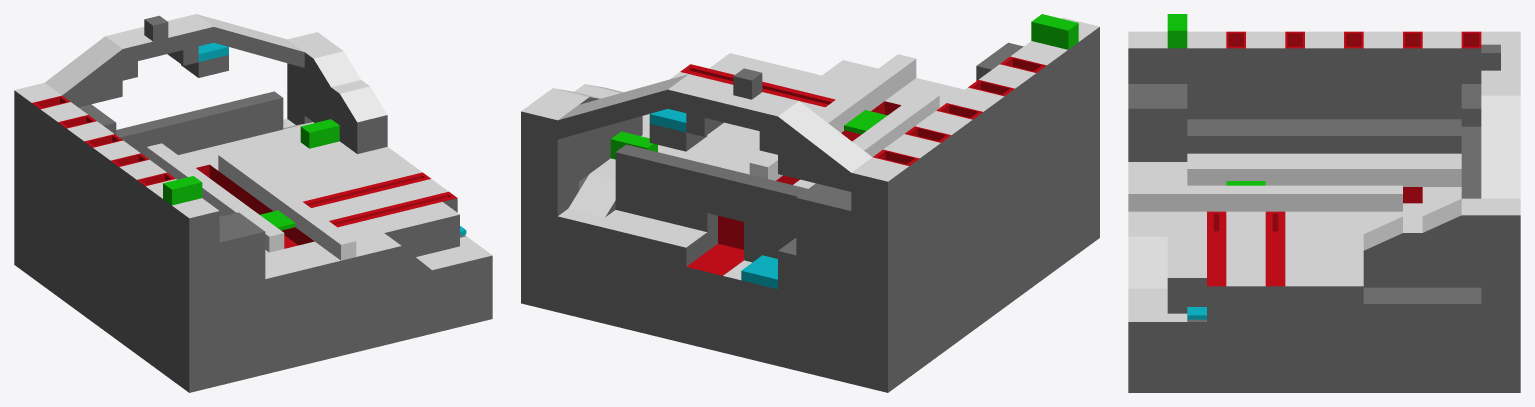
File: Nivel1_v2.fbx
3 renders of one model, left to right at view 1: azimuth 30°, elevation 25°; view 2: azimuth 150°, elevation 25°; view 3: azimuth 270°, elevation 25°, orthographic. The views are drawn at different scales.
Visible parts, largest first — view 1: Base, Pared final, Modulo movil 1, Pivotes electricos 2, Inicio, Pared2, Pivotes electricos 1, Modulo movil 2, Pared1, Puerta 2, Puerta 1, Boton 3 (+1 smaller); view 2: Base, Pared final, Pared2, Horno, Pivotes electricos 2, Pared1, Modulo movil 2, Modulo movil 1, Pivotes electricos 1, Puerta 2, Boton 2, Boton 3 (+3 smaller); view 3: Base, Pared final, Cinta transportadora, Modulo movil 1, Pivotes electricos 2, Pivotes electricos 1, Inicio, Modulo movil 2, Horno, Pared1, Puerta 2, Pared2.
Part boxes in pixels (x1,y1,x2,y2): Base: [14, 14, 492, 392]; Pared final: [14, 29, 219, 297]; Modulo movil 1: [304, 45, 387, 153]; Pivotes electricos 2: [218, 151, 356, 260]; Inicio: [204, 212, 265, 293]; Pared2: [184, 91, 283, 151]; Pivotes electricos 1: [146, 143, 284, 252]; Modulo movil 2: [136, 15, 228, 77]; Pared1: [116, 113, 192, 156]; Puerta 2: [163, 176, 202, 205]; Puerta 1: [300, 119, 339, 148]; Boton 3: [198, 42, 228, 61]; Base: [521, 53, 1099, 392]; Pared final: [741, 17, 1099, 277]; Pared2: [615, 144, 735, 217]; Horno: [796, 183, 869, 272]; Pivotes electricos 2: [749, 54, 916, 180]; Pared1: [725, 171, 807, 234]; Modulo movil 2: [649, 68, 762, 151]; Modulo movil 1: [542, 84, 642, 181]; Pivotes electricos 1: [793, 91, 939, 188]; Puerta 2: [1031, 14, 1078, 49]; Boton 2: [741, 255, 777, 289]; Boton 3: [649, 109, 686, 132]; Base: [1128, 79, 1520, 392]; Pared final: [1128, 31, 1520, 119]; Cinta transportadora: [1187, 119, 1461, 153]; Modulo movil 1: [1363, 198, 1481, 286]; Pivotes electricos 2: [1128, 185, 1402, 211]; Pivotes electricos 1: [1187, 161, 1461, 186]; Inicio: [1128, 84, 1187, 161]; Modulo movil 2: [1481, 44, 1520, 78]; Horno: [1461, 84, 1481, 126]; Pared1: [1461, 126, 1481, 167]; Puerta 2: [1167, 14, 1187, 48]; Pared2: [1461, 168, 1481, 198].
Size of the model in its own units: 2000 by 1400 by 2000.
